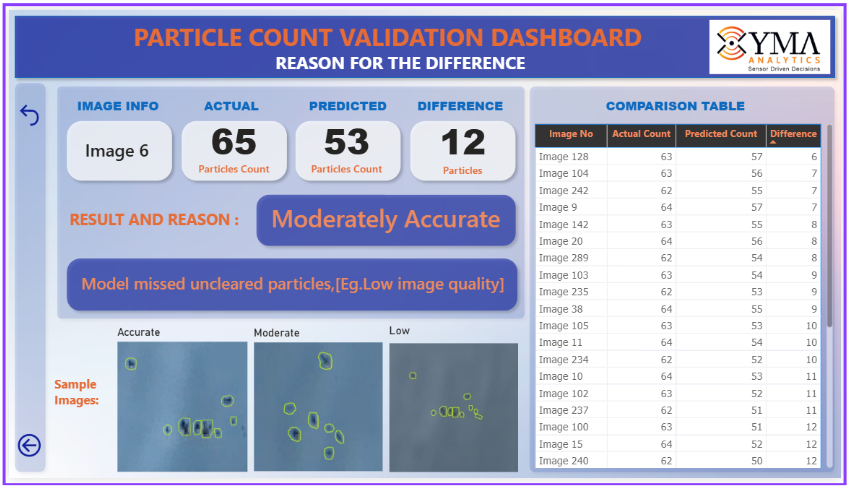

What the dashboard file says about the page in this screenshot:
{"tool":"powerbi","page":{"name":"Reason Dashboard","canvas":[1280,720],"ordinal":1},"visuals":[{"type":"shape","box":[0,0,1280,113.3],"z":0},{"type":"shape","box":[0,103.6,65.5,616.4],"z":1000},{"type":"shape","box":[65.7,108.6,737.1,375.7],"z":2000},{"type":"shape","box":[80,162.2,180,110],"z":3000},{"type":"shape","box":[80,372.9,711.4,98.6],"z":4000},{"type":"textbox","box":[100,128.6,174.3,47.1],"z":5000},{"type":"shape","box":[371.4,275.7,417.1,97.1],"z":6000},{"type":"textbox","box":[295.7,128.6,111.4,41.4],"z":7000},{"type":"shape","box":[256,162.2,180,110],"z":8000},{"type":"shape","box":[432,162.2,180,110],"z":9000},{"type":"shape","box":[608,162.2,180,110],"z":10000},{"type":"textbox","box":[456.7,128.9,151.1,41.1],"z":11000},{"type":"textbox","box":[623.3,128.9,150,38.9],"z":12000},{"type":"textbox","box":[88.6,300,282.9,50],"z":13000},{"type":"image","box":[1071.7,10,198.3,93.3],"z":14000},{"type":"textbox","box":[187.1,10,827.1,64.3],"z":15000},{"type":"textbox","box":[404.3,57.1,407.1,48.6],"z":16000},{"type":"card","fields":{"Values":["Min(Actual_particle_counts.Number of Image)"]},"box":[80,185,171.7,61.7],"z":17000},{"type":"card","fields":{"Values":["Max(ComparisonTable.Annotation Particles Count)"]},"box":[241.7,151.7,208.3,113.3],"z":18000},{"type":"card","fields":{"Values":["Max(ComparisonTable.Prediction Particles Count)"]},"box":[415,151.7,208.3,113.3],"z":19000},{"type":"card","fields":{"Values":["Max(ComparisonTable.Difference)"]},"box":[593.8,152.5,208.8,113.8],"z":20000},{"type":"card","fields":{"Values":["Min(ComparisonTable.Rank)"]},"box":[334,280,492,80],"z":21000},{"type":"card","fields":{"Values":["Min(ComparisonTable.Reason)"]},"box":[42,364,790,116],"z":22000},{"type":"shape","box":[792,108,488,612],"z":23000},{"type":"tableEx","fields":{"Values":["Distinct_Comparison.Number of Image","Sum(Distinct_Comparison.Annotation Particles Count)","Sum(Distinct_Comparison.Prediction Particles Count)","Sum(Distinct_Comparison.Difference)"]},"box":[803.8,170,468.8,538.8],"z":24000},{"type":"textbox","box":[914,128,246,42],"z":25000},{"type":"actionButton","box":[10,140,61.7,43.3],"z":26000},{"type":"actionButton","box":[8,646,46,46],"z":27000},{"type":"image","title":"Accurate :","box":[79.5,486.7,230.6,224.3],"z":27001},{"type":"image","title":"Moderate :","box":[320.5,486.7,225.9,224.3],"z":27002},{"type":"image","title":"Low :","box":[556.7,486.7,235.4,224.3],"z":27003}]}

Visuals, with their boxes in screenshot pixels (x1, y1, x2, y2), scaled from the page's 1280x720 canvas onto the 850x489 screenshot:
shape: box(0, 0, 849, 77)
shape: box(0, 70, 43, 488)
shape: box(44, 74, 533, 329)
shape: box(53, 110, 173, 185)
shape: box(53, 253, 526, 320)
textbox: box(66, 87, 182, 119)
shape: box(247, 187, 524, 253)
textbox: box(196, 87, 270, 115)
shape: box(170, 110, 290, 185)
shape: box(287, 110, 406, 185)
shape: box(404, 110, 523, 185)
textbox: box(303, 88, 404, 115)
textbox: box(414, 88, 514, 114)
textbox: box(59, 204, 247, 238)
image: box(712, 7, 843, 70)
textbox: box(124, 7, 673, 50)
textbox: box(268, 39, 539, 72)
card - Min(Actual_particle_counts.Number of Image): box(53, 126, 167, 168)
card - Max(ComparisonTable.Annotation Particles Count): box(161, 103, 299, 180)
card - Max(ComparisonTable.Prediction Particles Count): box(276, 103, 414, 180)
card - Max(ComparisonTable.Difference): box(394, 104, 533, 181)
card - Min(ComparisonTable.Rank): box(222, 190, 549, 244)
card - Min(ComparisonTable.Reason): box(28, 247, 552, 326)
shape: box(526, 73, 849, 488)
tableEx - Distinct_Comparison.Number of Image x Sum(Distinct_Comparison.Annotation Particles Count): box(534, 115, 845, 481)
textbox: box(607, 87, 770, 115)
actionButton: box(7, 95, 48, 124)
actionButton: box(5, 439, 36, 470)
"Accurate :" image: box(53, 331, 206, 483)
"Moderate :" image: box(213, 331, 363, 483)
"Low :" image: box(370, 331, 526, 483)
